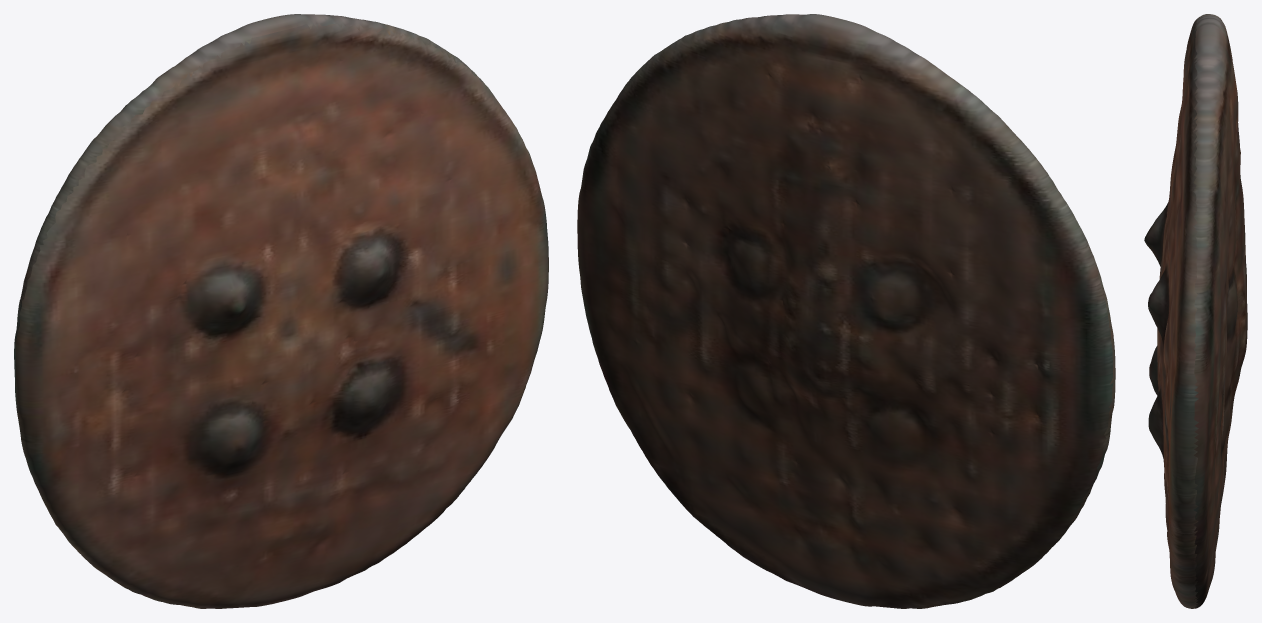
File: kfl-2134.glb
The picture shows the model from 3 angles, left to right: view 1: azimuth 30°, elevation 25°; view 2: azimuth 150°, elevation 25°; view 3: azimuth 270°, elevation 25°; orthographic projection. The views are drawn at different scales.
Visible parts, largest first — view 1: geometry_0; view 2: geometry_0; view 3: geometry_0.
Boxes of the visible parts, bbox=[...] form: geometry_0: bbox=[14, 14, 548, 608]; geometry_0: bbox=[577, 14, 1115, 608]; geometry_0: bbox=[1144, 14, 1247, 608].
Size of the model in its own units: 0.9496 by 0.9907 by 0.1696.
Materials: 1 (1 with a texture image).
